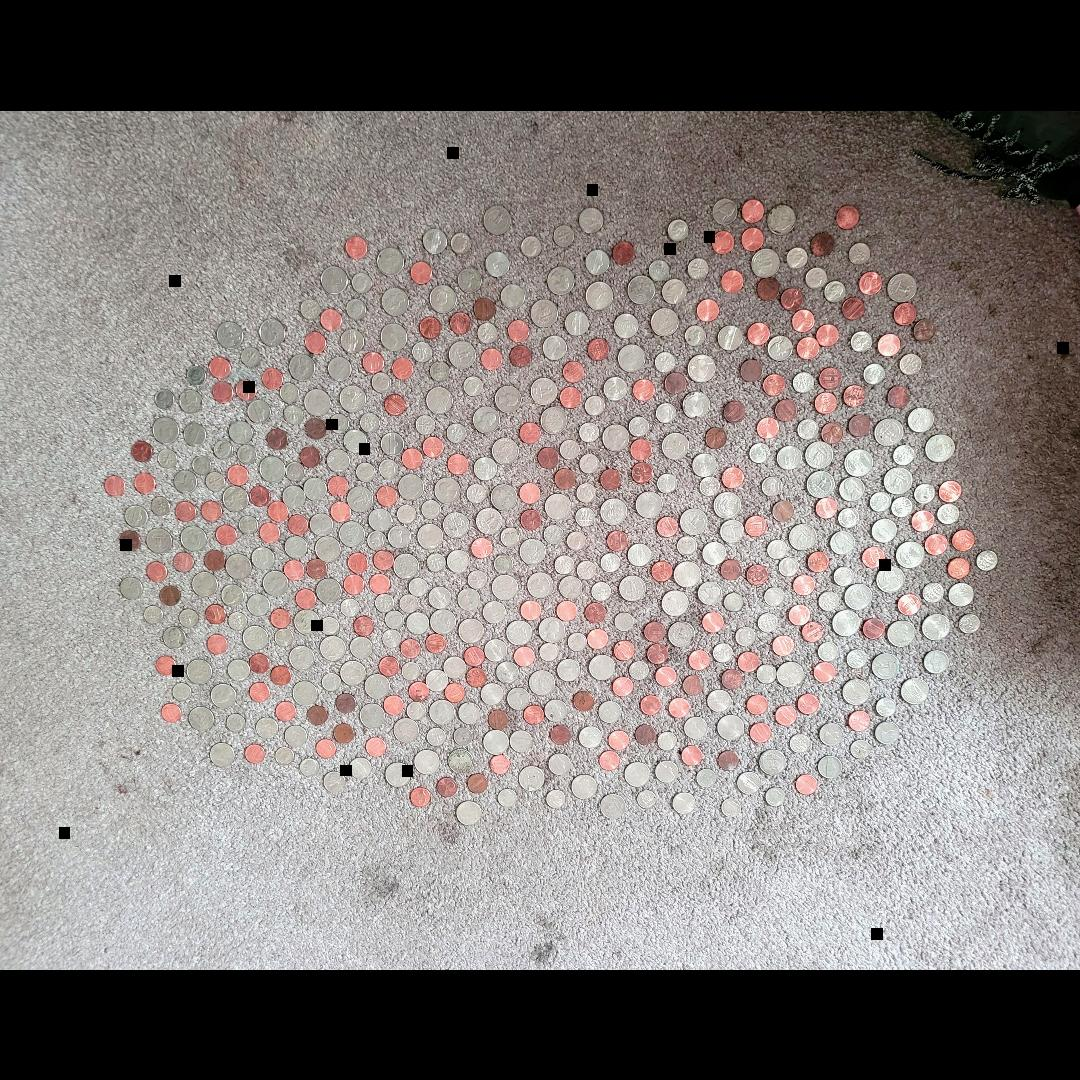Dime: (805, 266, 827, 290), (824, 281, 846, 303), (685, 326, 707, 346), (798, 418, 818, 440), (786, 248, 808, 268), (850, 243, 870, 265), (900, 354, 922, 374), (914, 484, 936, 504), (937, 504, 959, 524), (522, 237, 542, 258), (871, 492, 892, 512), (352, 272, 372, 292), (347, 300, 367, 320), (412, 342, 432, 362), (372, 372, 392, 392), (360, 412, 380, 432), (280, 382, 300, 402), (356, 462, 376, 482), (544, 524, 564, 544), (494, 554, 514, 574), (426, 552, 446, 572), (467, 484, 487, 504), (464, 376, 484, 396), (560, 440, 580, 460), (554, 226, 574, 246), (649, 260, 669, 280), (656, 352, 676, 372), (585, 396, 605, 416), (579, 422, 599, 442), (580, 454, 600, 474), (790, 734, 810, 754), (758, 612, 778, 632), (818, 642, 838, 662), (779, 556, 799, 576), (839, 508, 859, 528), (762, 476, 782, 496), (794, 372, 814, 392), (852, 331, 872, 351), (689, 258, 709, 278), (669, 220, 689, 240), (865, 364, 885, 384), (960, 614, 980, 634), (657, 474, 677, 493), (241, 346, 260, 366), (397, 504, 416, 524), (426, 728, 446, 747), (592, 582, 612, 601), (421, 499, 441, 518), (700, 478, 720, 497), (379, 459, 398, 478), (678, 536, 696, 556), (239, 516, 259, 534), (152, 496, 170, 516), (193, 456, 213, 474), (206, 472, 226, 490), (238, 444, 256, 464), (186, 367, 206, 385), (330, 414, 350, 432), (283, 406, 303, 424), (286, 462, 304, 482), (382, 630, 402, 648), (454, 728, 474, 746), (546, 790, 566, 808), (568, 633, 588, 651), (600, 553, 620, 571), (577, 561, 597, 579), (501, 528, 521, 546), (416, 416, 436, 434), (446, 424, 466, 442), (430, 362, 450, 380), (478, 324, 498, 342), (451, 234, 471, 252), (656, 404, 676, 422), (629, 418, 649, 436), (577, 484, 597, 502), (576, 508, 596, 526), (714, 642, 732, 662), (696, 769, 716, 787), (766, 788, 786, 806), (757, 665, 777, 683), (735, 628, 755, 646), (765, 588, 785, 606), (850, 740, 870, 758), (847, 650, 867, 668), (819, 592, 839, 610), (834, 567, 854, 585), (768, 540, 788, 558), (750, 444, 770, 462), (894, 446, 914, 464), (892, 498, 912, 516), (978, 552, 998, 570), (923, 584, 943, 602), (156, 390, 175, 408), (375, 594, 394, 612), (567, 532, 586, 550), (340, 600, 360, 617), (274, 747, 294, 764), (498, 790, 518, 807), (658, 732, 676, 750), (229, 612, 247, 630), (302, 300, 320, 318), (409, 578, 427, 596), (400, 594, 418, 612), (368, 532, 386, 550), (385, 612, 403, 630), (320, 618, 338, 636), (322, 673, 340, 691), (402, 662, 420, 680), (407, 702, 425, 720), (616, 612, 634, 630), (540, 643, 558, 661), (556, 556, 574, 574), (468, 570, 486, 588), (630, 661, 648, 679), (638, 790, 656, 808), (722, 799, 740, 817), (725, 593, 743, 611), (878, 698, 896, 716), (179, 609, 198, 626), (144, 608, 164, 624), (158, 450, 178, 466), (214, 442, 234, 458), (300, 759, 320, 775), (228, 714, 244, 732), (276, 629, 292, 647), (174, 684, 190, 700)
Nickel: (714, 197, 738, 224), (423, 228, 447, 254), (908, 408, 934, 432), (486, 252, 510, 276), (579, 208, 603, 232), (501, 284, 525, 308), (586, 250, 610, 274), (615, 314, 639, 338), (604, 376, 628, 400), (565, 311, 589, 335), (719, 325, 743, 349), (174, 470, 198, 494), (720, 520, 744, 544), (663, 279, 687, 303), (768, 336, 792, 360), (949, 582, 973, 606), (925, 650, 949, 674), (558, 576, 584, 598), (543, 336, 566, 360), (778, 446, 802, 469), (698, 581, 722, 604), (458, 268, 481, 292), (388, 524, 411, 548), (475, 457, 498, 480), (246, 594, 270, 616), (284, 536, 308, 558), (628, 544, 652, 566), (654, 760, 678, 782), (708, 690, 732, 712), (702, 542, 726, 564), (818, 756, 842, 778), (873, 520, 897, 542), (840, 478, 864, 500), (831, 532, 855, 554), (876, 722, 900, 744), (126, 505, 148, 528), (179, 390, 202, 412), (341, 330, 364, 352), (329, 358, 352, 380), (326, 450, 349, 472), (369, 508, 392, 530), (558, 659, 581, 681), (820, 724, 843, 746), (164, 627, 186, 649), (256, 717, 278, 739), (222, 584, 244, 606), (252, 548, 274, 570), (249, 400, 271, 422), (230, 421, 252, 443), (184, 424, 206, 446), (382, 433, 404, 455), (345, 430, 367, 452), (304, 478, 326, 500), (310, 514, 332, 536), (351, 637, 373, 659), (426, 669, 448, 691), (444, 657, 466, 679), (458, 588, 480, 610), (429, 587, 451, 609), (407, 612, 429, 634), (448, 550, 470, 572), (545, 700, 567, 722), (510, 730, 532, 752), (497, 661, 519, 683), (694, 454, 716, 476), (598, 701, 620, 723), (508, 688, 530, 710), (120, 577, 142, 599), (283, 486, 305, 508), (458, 703, 481, 724), (484, 640, 508, 660), (684, 718, 708, 738), (579, 727, 601, 748), (673, 792, 695, 813), (738, 772, 760, 793), (228, 660, 250, 680), (350, 758, 372, 778), (484, 602, 506, 622), (481, 684, 503, 704), (549, 754, 571, 774), (324, 772, 346, 792), (286, 726, 307, 746)
Penny: (811, 232, 835, 256), (712, 230, 734, 254), (743, 198, 765, 222), (697, 298, 719, 322), (758, 276, 780, 300), (848, 414, 872, 436), (798, 337, 821, 359), (939, 480, 962, 502), (893, 303, 916, 325), (878, 334, 901, 356), (363, 351, 385, 373), (346, 236, 368, 258), (450, 312, 472, 334), (422, 436, 444, 458), (612, 243, 634, 265), (742, 228, 764, 250), (722, 270, 744, 292), (837, 206, 859, 228), (782, 288, 804, 310), (748, 322, 770, 344), (741, 359, 763, 381), (793, 310, 815, 332), (860, 272, 882, 294), (843, 297, 865, 319), (817, 324, 839, 346), (764, 374, 786, 396), (776, 399, 798, 421), (814, 393, 838, 413), (924, 534, 948, 554), (888, 386, 912, 406), (560, 386, 581, 408), (849, 711, 871, 732), (201, 501, 223, 521), (209, 357, 231, 377), (266, 429, 288, 449), (320, 310, 342, 330), (384, 394, 406, 414), (412, 262, 432, 284), (420, 318, 442, 338), (508, 321, 530, 341), (511, 344, 531, 366), (482, 348, 502, 370), (588, 340, 610, 360), (563, 362, 585, 382), (585, 602, 607, 622), (633, 380, 655, 400), (664, 373, 686, 393), (722, 468, 744, 488), (721, 560, 743, 580), (702, 612, 724, 632), (747, 694, 769, 714), (758, 418, 780, 438), (820, 368, 842, 388), (822, 421, 842, 443), (773, 502, 795, 522), (816, 498, 838, 518), (862, 548, 884, 568), (807, 552, 829, 572), (795, 775, 817, 795), (773, 636, 795, 656), (802, 622, 824, 642), (863, 619, 885, 639), (899, 595, 921, 615), (948, 558, 970, 578), (952, 529, 974, 549), (914, 320, 936, 340), (912, 512, 936, 530), (475, 298, 495, 319), (645, 621, 666, 641), (725, 402, 746, 422), (747, 516, 768, 536), (844, 385, 864, 406), (814, 662, 835, 682), (105, 476, 125, 496), (133, 441, 153, 461), (136, 474, 156, 494), (176, 502, 196, 522), (147, 562, 167, 582), (173, 552, 193, 572), (206, 604, 226, 624), (205, 550, 225, 570), (263, 369, 283, 389), (236, 380, 256, 400), (213, 382, 233, 402), (250, 682, 270, 702), (250, 654, 270, 674), (284, 560, 304, 580), (269, 502, 289, 522), (250, 486, 270, 506), (301, 446, 321, 466), (306, 332, 326, 352), (328, 476, 348, 496), (402, 448, 422, 468), (378, 486, 398, 506), (331, 502, 351, 522), (374, 550, 394, 570), (370, 573, 390, 593), (354, 616, 374, 636), (379, 656, 399, 676), (336, 694, 356, 714), (316, 738, 336, 758), (334, 724, 354, 744), (384, 696, 404, 716), (521, 424, 541, 444), (539, 448, 559, 468), (556, 469, 576, 489), (521, 510, 541, 530), (472, 537, 492, 557), (521, 600, 541, 620), (464, 646, 484, 666), (409, 682, 429, 702), (445, 682, 465, 702), (588, 629, 608, 649), (575, 690, 595, 710), (615, 640, 635, 660), (607, 531, 627, 551), (658, 516, 678, 536), (648, 644, 668, 664), (656, 666, 676, 686), (641, 696, 661, 716), (600, 469, 620, 489), (632, 439, 652, 459), (633, 463, 653, 483), (706, 428, 726, 448), (747, 565, 767, 585), (739, 652, 759, 672), (689, 650, 709, 670), (683, 675, 703, 695), (670, 698, 690, 718), (682, 746, 702, 766), (751, 723, 771, 743), (776, 706, 796, 726), (790, 604, 810, 624), (215, 526, 237, 544), (392, 360, 414, 378), (306, 419, 326, 438), (308, 706, 328, 725), (449, 456, 469, 475), (515, 647, 535, 666), (524, 706, 544, 725), (722, 669, 742, 688), (799, 696, 820, 714), (160, 586, 180, 604), (156, 657, 176, 675), (228, 466, 248, 484), (276, 702, 296, 720), (296, 590, 316, 608), (308, 558, 326, 578), (289, 516, 309, 534), (260, 524, 280, 542), (348, 554, 368, 572), (346, 574, 364, 594), (402, 638, 420, 658), (366, 738, 386, 756), (520, 484, 540, 502), (557, 602, 577, 620), (426, 634, 446, 652), (466, 668, 486, 686), (490, 756, 510, 774), (468, 775, 488, 793), (437, 778, 457, 796), (550, 726, 570, 744), (600, 752, 620, 770), (609, 732, 629, 750), (613, 678, 633, 696), (652, 562, 672, 580), (636, 726, 656, 744), (718, 752, 738, 770), (794, 576, 814, 594), (120, 532, 139, 550), (412, 788, 431, 806), (489, 711, 509, 728), (162, 704, 180, 722), (272, 667, 290, 685), (272, 610, 290, 628), (208, 636, 226, 653), (246, 746, 264, 763)
Quarter: (482, 204, 512, 234), (888, 272, 918, 302), (768, 204, 796, 234), (752, 248, 780, 278), (926, 434, 956, 462), (628, 276, 656, 305), (430, 284, 458, 312), (382, 288, 410, 316), (304, 388, 332, 416), (636, 490, 664, 518), (875, 418, 903, 446), (884, 466, 912, 494), (587, 282, 614, 311), (887, 620, 916, 647), (844, 450, 874, 476), (922, 614, 952, 640), (426, 386, 453, 414), (474, 406, 501, 434), (681, 508, 708, 536), (662, 432, 689, 460), (689, 354, 716, 382), (877, 567, 905, 594), (807, 441, 834, 468), (322, 266, 348, 294), (378, 248, 404, 276), (382, 322, 408, 350), (548, 266, 574, 294), (652, 308, 678, 336), (832, 610, 860, 636), (492, 574, 520, 600), (340, 386, 366, 413), (398, 474, 424, 501), (496, 386, 522, 413), (541, 408, 567, 435), (545, 494, 572, 520), (714, 492, 741, 518), (618, 344, 645, 370), (873, 654, 900, 680), (218, 322, 244, 348), (289, 355, 315, 381), (532, 300, 558, 326), (532, 378, 558, 404), (492, 438, 518, 464), (491, 484, 517, 510), (418, 524, 444, 550), (444, 512, 470, 538), (476, 508, 502, 534), (528, 572, 554, 598), (590, 654, 616, 680), (603, 424, 629, 450), (684, 392, 710, 418), (790, 524, 816, 550), (846, 583, 872, 609), (718, 714, 744, 740), (902, 678, 928, 704), (669, 622, 696, 647), (260, 318, 284, 346), (450, 342, 474, 369), (518, 540, 545, 564), (675, 562, 702, 586), (601, 500, 628, 524), (896, 542, 923, 566), (572, 775, 598, 799), (146, 528, 172, 552), (153, 418, 179, 442), (224, 486, 248, 512), (348, 486, 372, 512), (539, 618, 565, 642), (506, 621, 532, 645), (530, 670, 554, 696), (460, 617, 484, 643), (414, 750, 440, 774), (364, 675, 390, 699), (360, 704, 386, 728), (340, 660, 366, 684), (320, 637, 346, 661), (316, 536, 340, 562), (296, 608, 320, 634), (620, 576, 646, 600), (662, 591, 688, 615), (808, 472, 834, 496), (844, 680, 870, 704), (778, 663, 804, 687), (760, 750, 786, 774), (193, 572, 218, 596), (182, 526, 206, 551), (434, 478, 459, 502), (431, 610, 456, 634), (317, 579, 341, 604), (262, 572, 288, 595), (448, 749, 474, 772), (484, 731, 508, 755), (626, 763, 650, 787), (212, 683, 236, 707), (190, 706, 214, 730), (187, 659, 211, 683), (244, 626, 268, 650), (227, 554, 251, 578), (260, 457, 284, 481), (395, 554, 419, 578), (394, 719, 418, 743), (430, 700, 454, 724), (520, 766, 544, 790), (386, 763, 410, 787), (340, 522, 364, 546), (290, 646, 314, 670), (293, 682, 317, 706), (601, 794, 625, 818), (456, 802, 481, 824), (211, 744, 235, 766)
